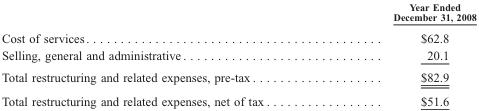table: (1, 1, 475, 107)
table column: (1, 1, 330, 107), (330, 1, 475, 107)
table column header: (1, 1, 475, 26)
table row: (1, 1, 475, 26), (1, 66, 475, 88), (1, 26, 475, 46), (1, 46, 475, 66), (1, 88, 475, 107)
